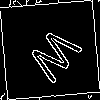W: (25, 25, 91, 91)
